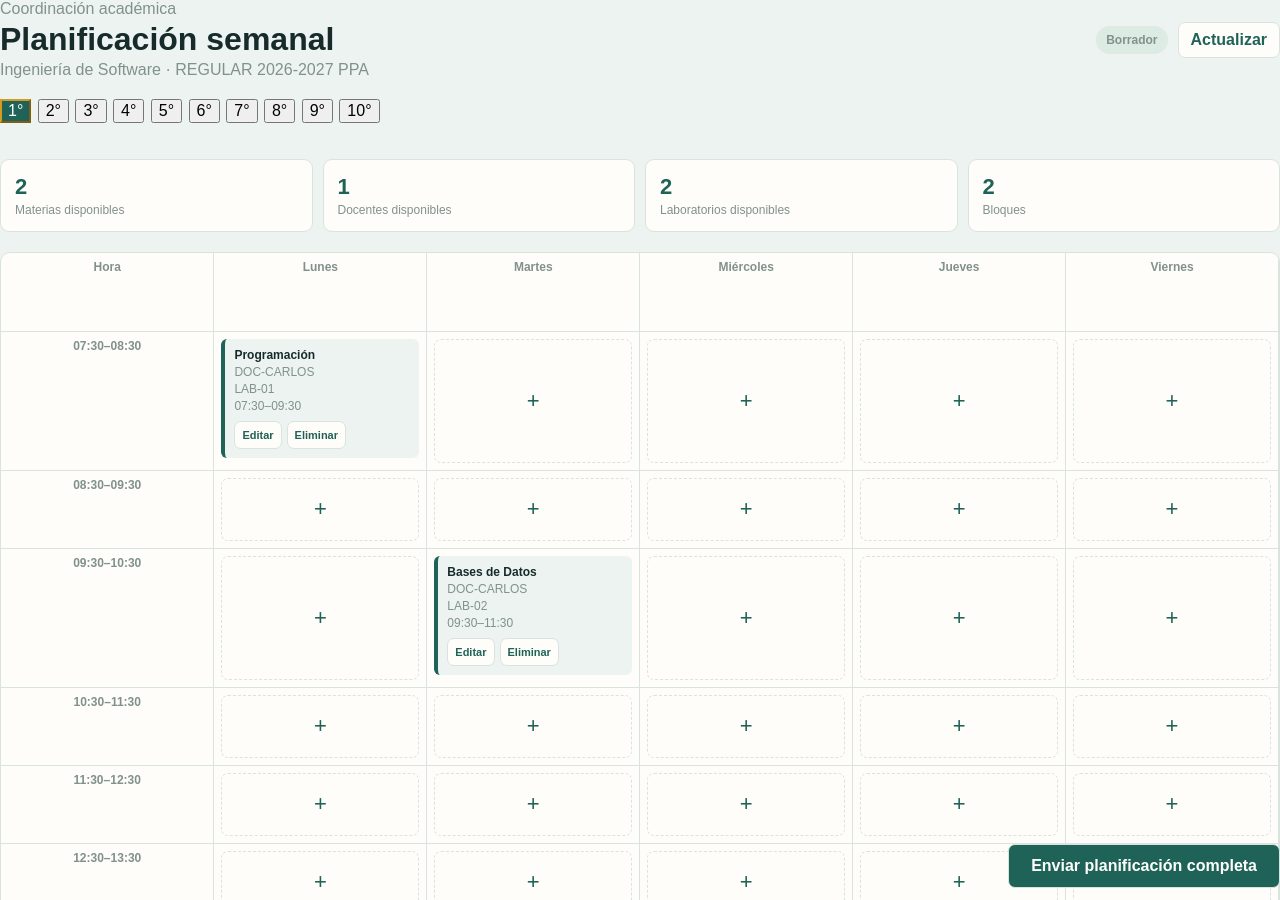
CoordinadorPlanificacion › deriva el piso real al editar y limpia un laboratorio incompatible
Expected: the text "Programación" is shown, 234,348 -> 315,362
Click the button "Editar" below "LAB-01" at (258, 434), box 234,420 -> 282,448
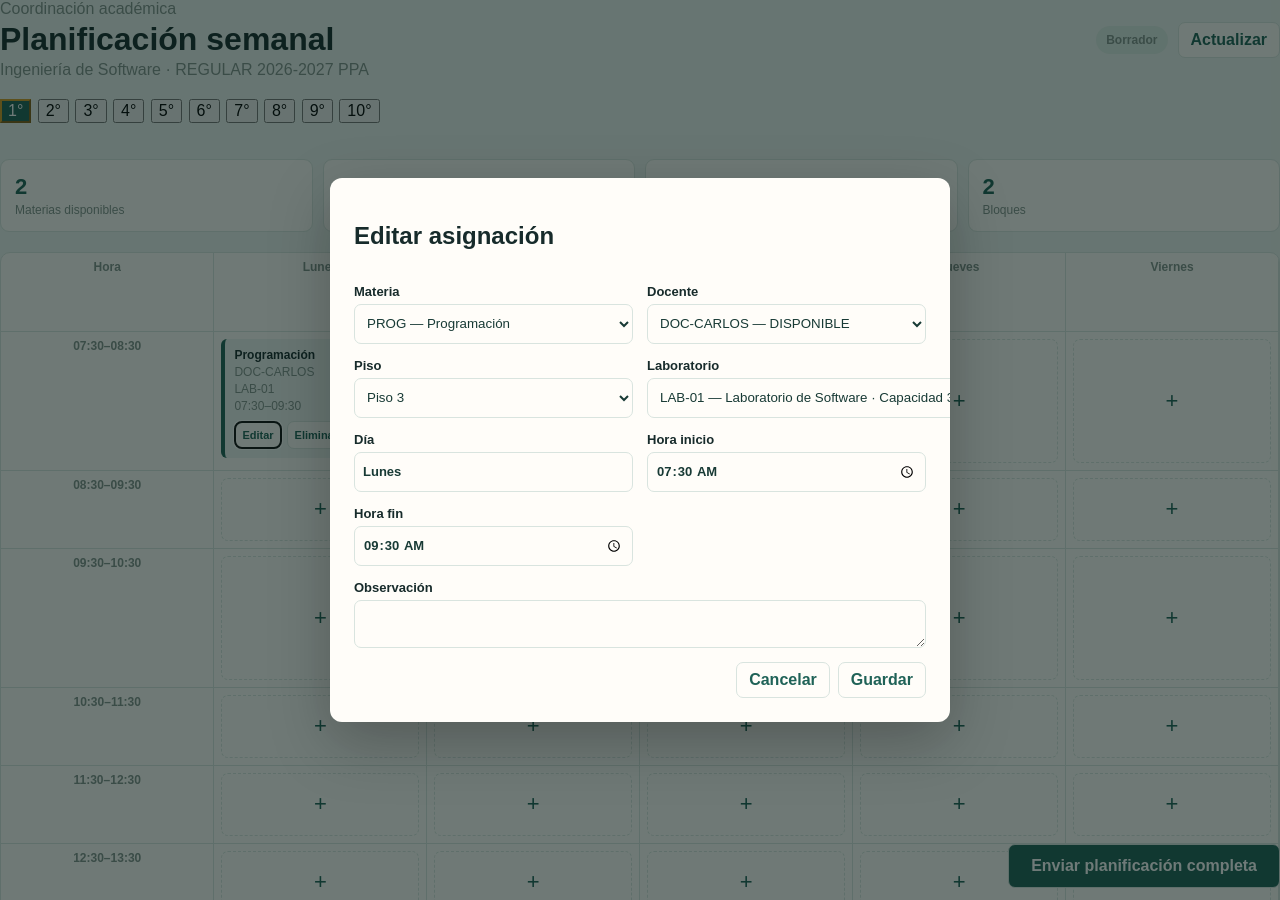
Result: the dropdown labelled "Piso" shows "Piso 3"
Result: the dropdown labelled "Laboratorio" shows "LAB-01 — Laboratorio de Software · Capacidad 30 — DISPONIBLE" at 647,378 -> 950,418
Select "Piso 2" in the dropdown labelled "Piso" at (494, 398), box 354,378 -> 633,418
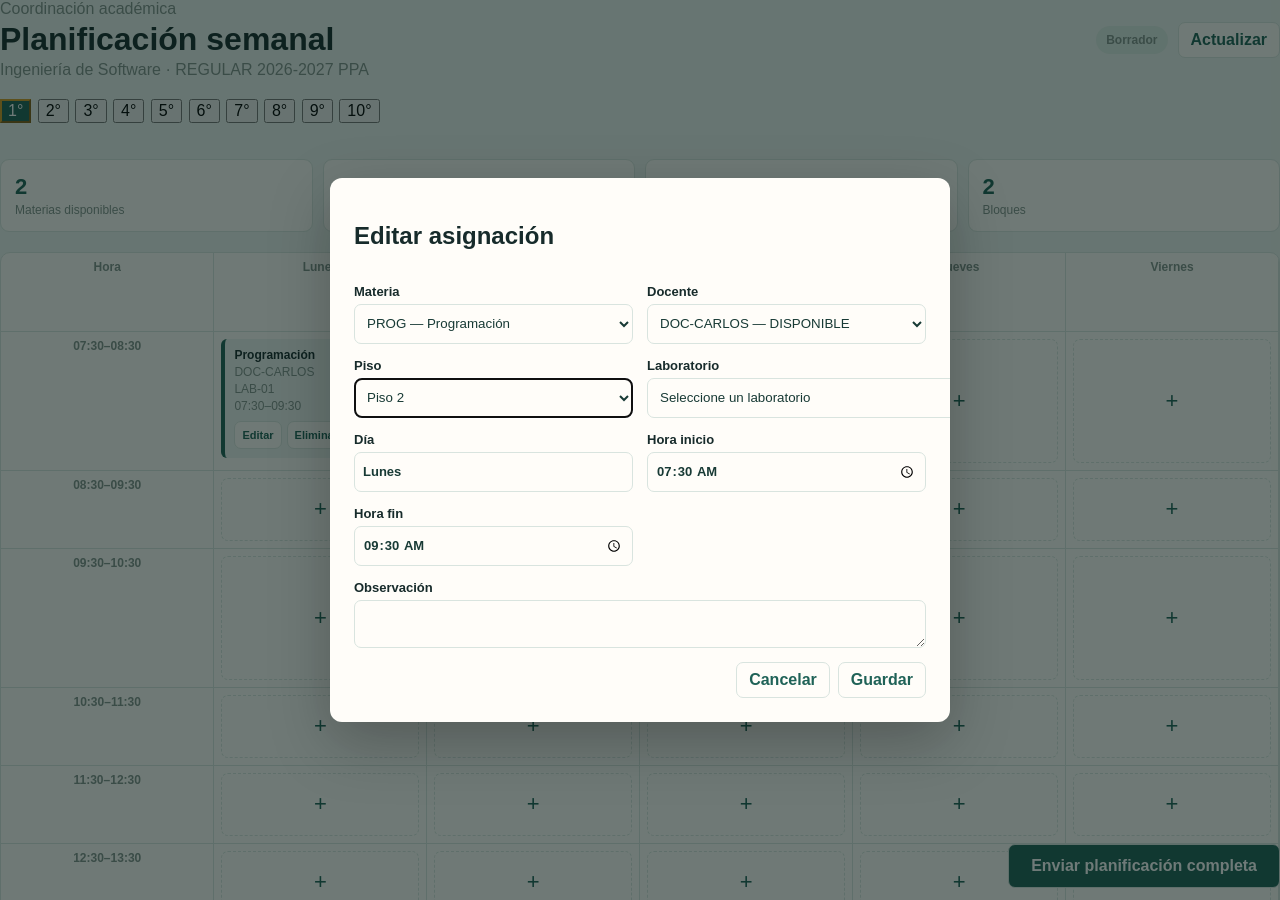
Expected: the dropdown labelled "Laboratorio" does not show "LAB-01", 647,378 -> 950,418
Result: the dropdown labelled "Laboratorio" shows "Seleccione un laboratorio" at 647,378 -> 950,418
